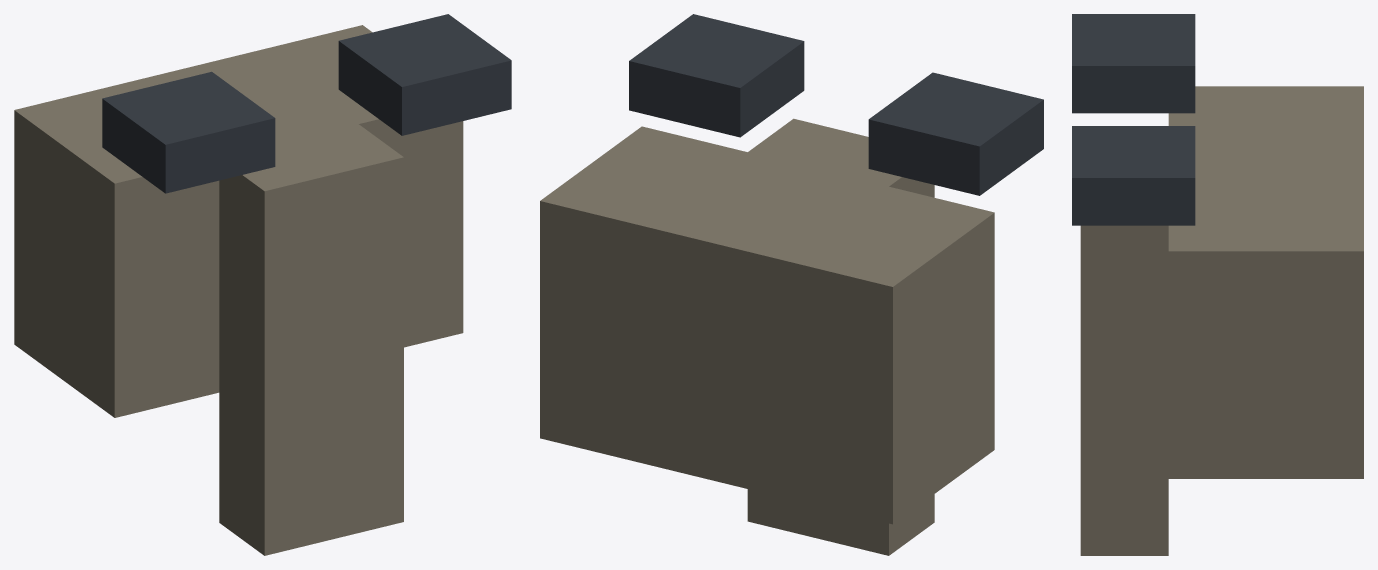
File: fort-gatehouse.tone-v1.lod2.glb
3 views of the same model, side by side, from view 1: azimuth 30°, elevation 25°; view 2: azimuth 150°, elevation 25°; view 3: azimuth 270°, elevation 25° (orthographic). The views are drawn at different scales.
Visible parts, largest first — view 1: fort-gatehouse; view 2: fort-gatehouse; view 3: fort-gatehouse.
Part boxes in pixels (left/top/right/bottom): fort-gatehouse: left=14, top=14, right=511, bottom=555; fort-gatehouse: left=540, top=14, right=1043, bottom=555; fort-gatehouse: left=1072, top=14, right=1363, bottom=555.
Size of the model in its own units: 28 by 33.75 by 20.91.
